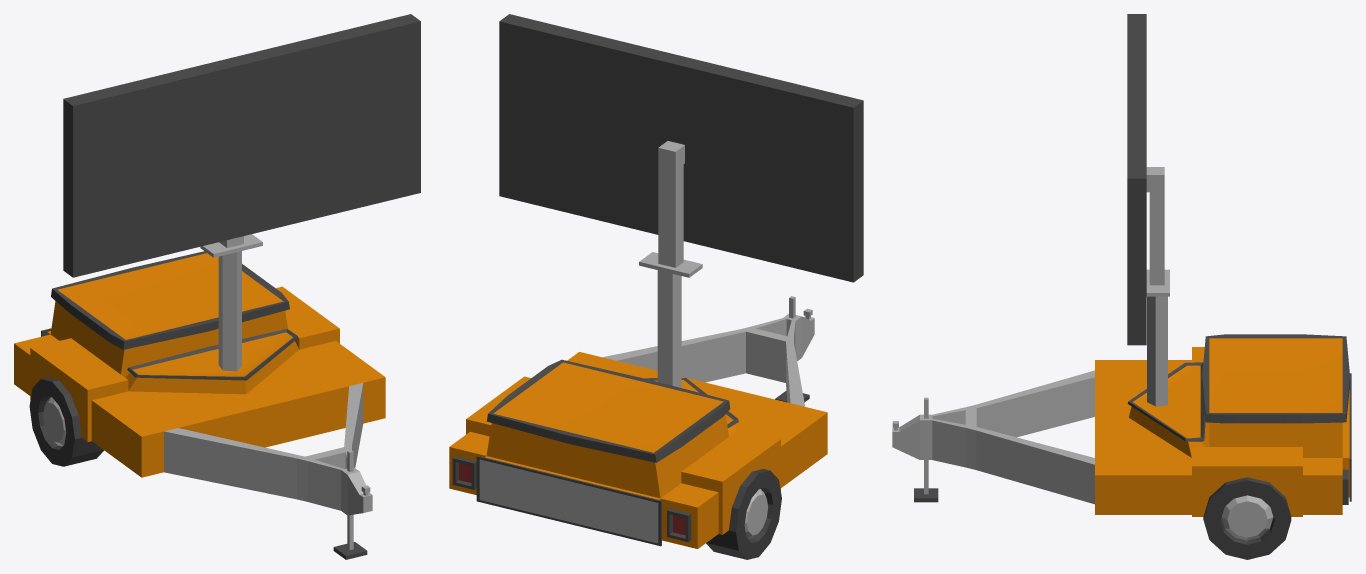
File: Trailer Sign.fbx
3 renders of one model, left to right at view 1: azimuth 30°, elevation 25°; view 2: azimuth 150°, elevation 25°; view 3: azimuth 270°, elevation 25°, orthographic. The views are drawn at different scales.
Parts seen in each view (by area): view 1: Trailer_Sign; view 2: Trailer_Sign; view 3: Trailer_Sign.
Part boxes in pixels (bbox=[...]): Trailer_Sign: bbox=[14, 14, 420, 559]; Trailer_Sign: bbox=[449, 14, 863, 559]; Trailer_Sign: bbox=[892, 14, 1351, 559].
Size of the model in its own units: 4.07 by 4.62 by 4.8.
